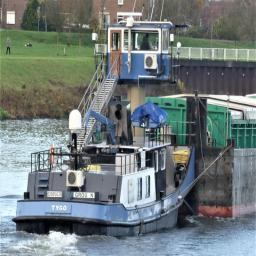tugboat: (11, 12, 211, 248)
